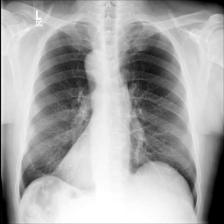normal: (17, 18, 200, 215)
